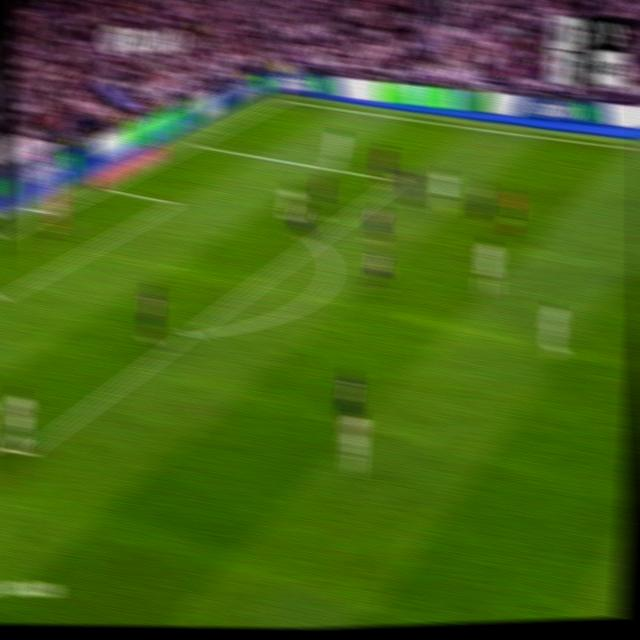bigarea_bottom_inner: (16, 437, 36, 468)
bigarea_top_inner: (389, 170, 406, 189)
bigarea_top_outter: (186, 135, 202, 152)
bottom_arc_area_intersection: (180, 320, 201, 346)
corner: (274, 92, 292, 107)
smallarea_top_inner: (168, 195, 182, 211)
top_arc_area_intersection: (308, 230, 325, 251)
